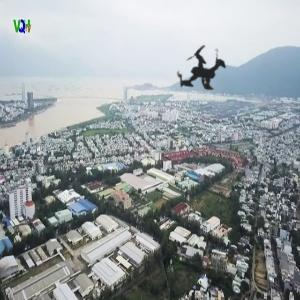drone: (132, 1, 271, 140)
